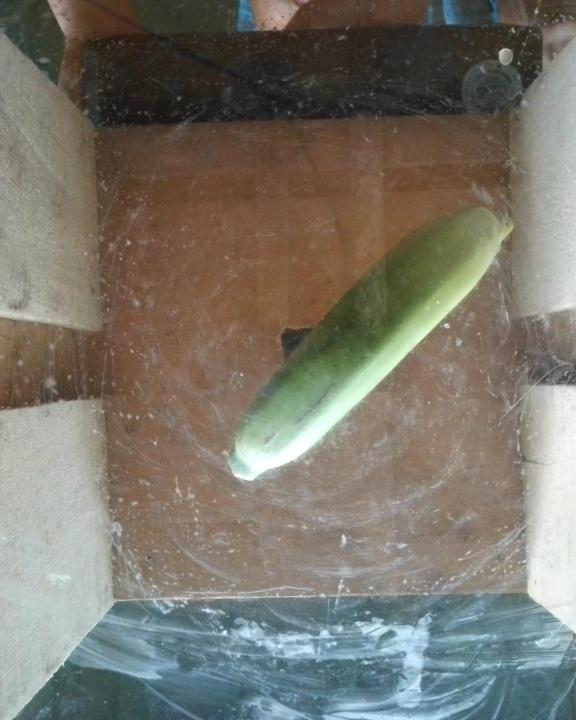CLASS B: (217, 202, 515, 484)
Class A: (294, 380, 335, 430)
